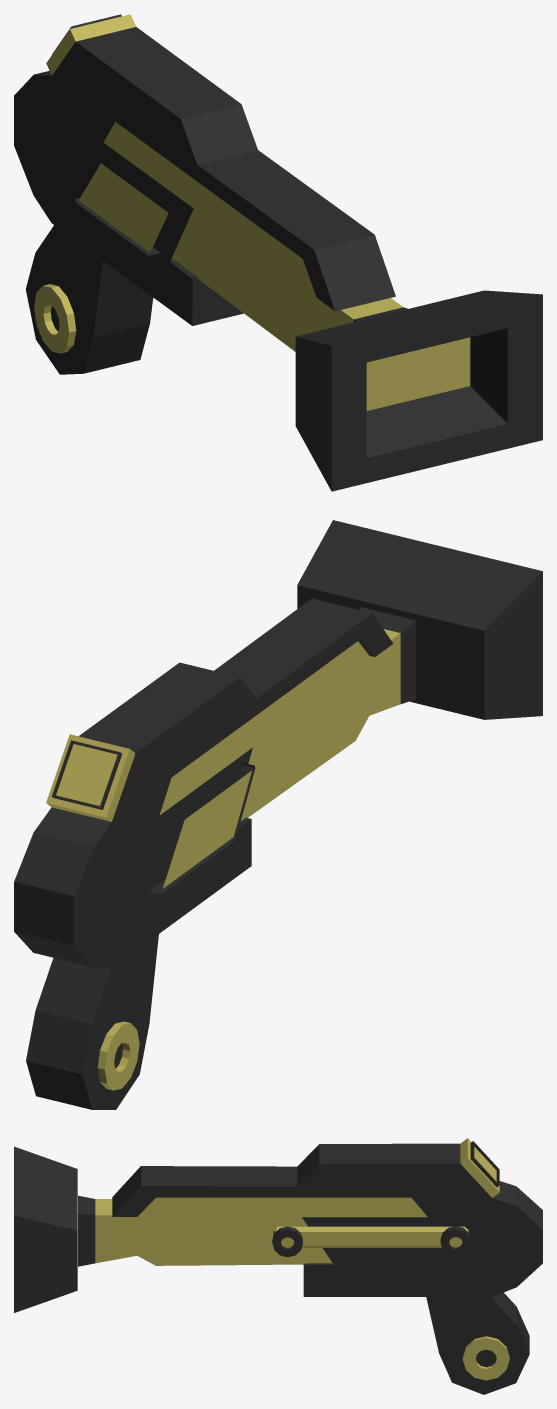
Rendered from gun-3.dae.
3 views of the same model, one above another, from view 1: azimuth 30°, elevation 25°; view 2: azimuth 150°, elevation 25°; view 3: azimuth 270°, elevation 25° (orthographic). The views are drawn at different scales.
Parts seen in each view (by area): view 1: Cube_003_007; view 2: Cube_003_007; view 3: Cube_003_007.
Part boxes in pixels (<box>): Cube_003_007: <box>14,14,542,491</box>; Cube_003_007: <box>14,520,542,1109</box>; Cube_003_007: <box>14,1138,542,1394</box>.
Bounding box in the file's own units: 0.2749 × 0.8893 × 0.4412.
